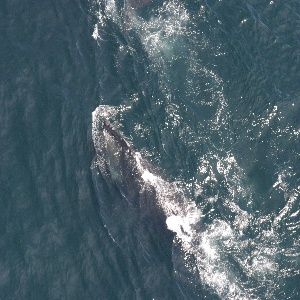cetacean: (92, 116, 181, 253)
